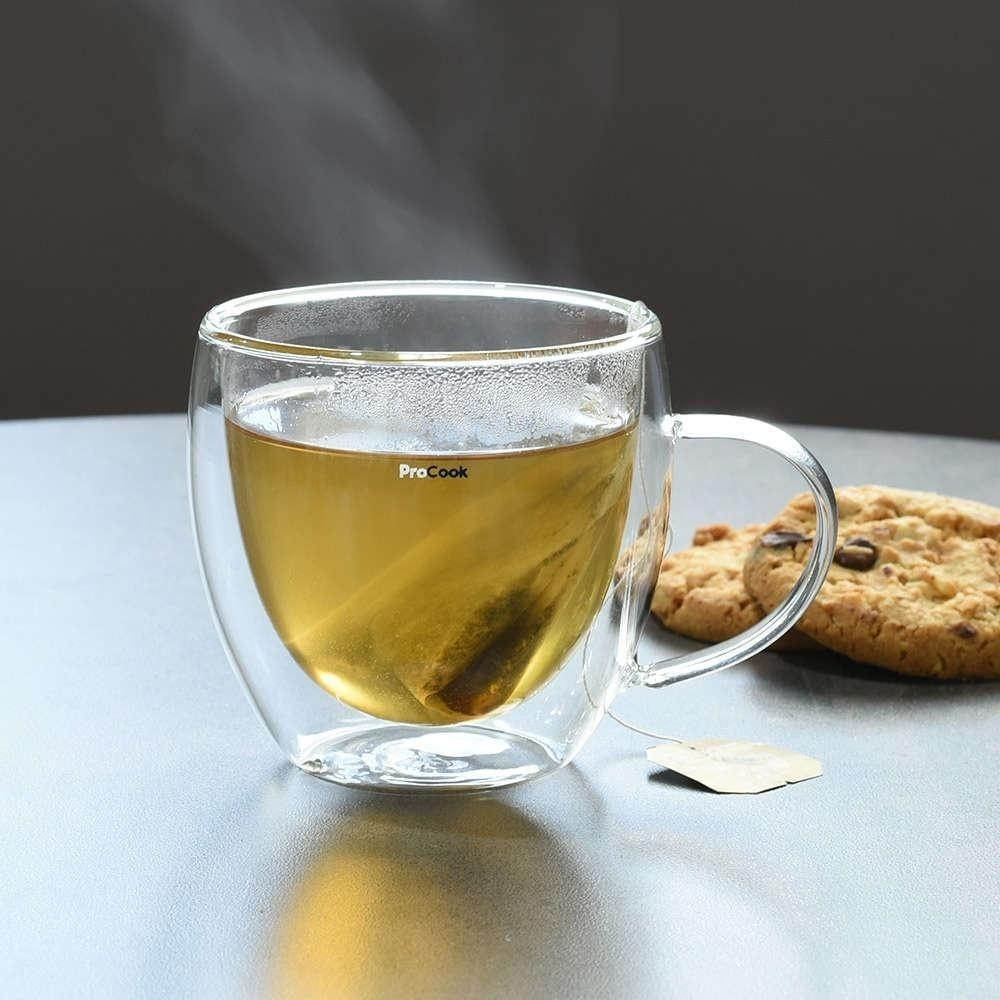glass-mug: (181, 274, 851, 801)
